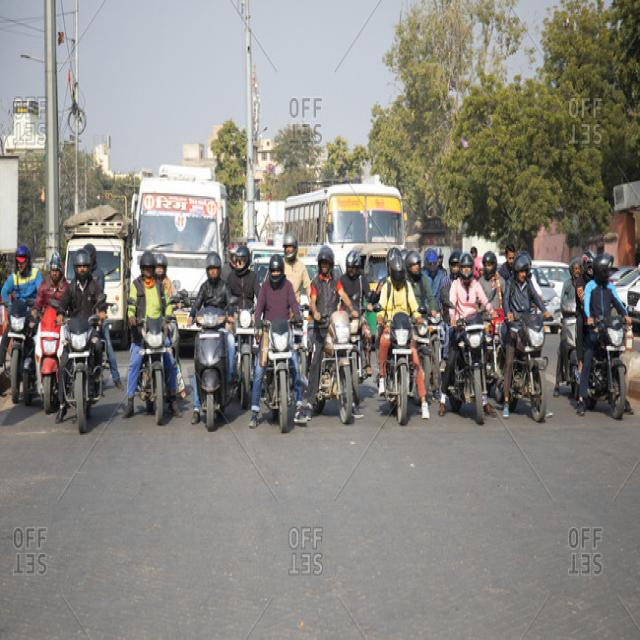bus: (131, 165, 229, 294), (284, 185, 404, 277)
car: (532, 266, 561, 331)
motorcycle: (124, 251, 185, 425), (250, 255, 306, 432), (439, 253, 496, 425), (575, 251, 631, 419), (56, 249, 106, 432), (495, 253, 549, 422), (378, 253, 430, 425), (308, 245, 358, 423), (188, 253, 235, 431), (0, 245, 42, 402), (32, 253, 68, 414), (228, 245, 259, 410), (554, 257, 582, 397), (294, 389, 306, 423)
truck: (64, 206, 131, 348)
